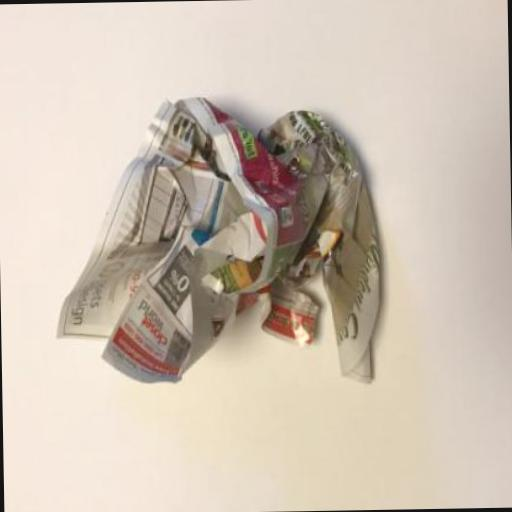paper: (52, 92, 382, 386)
